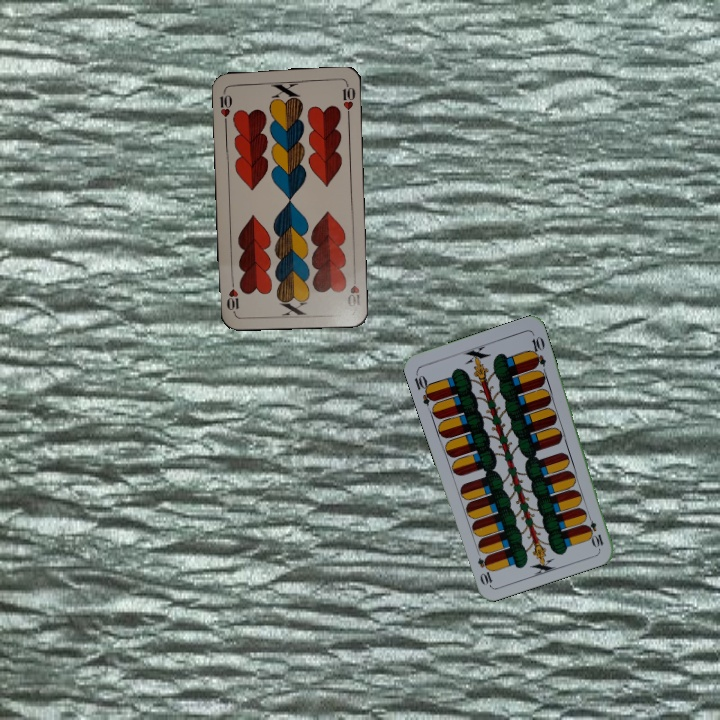E10: (410, 368, 437, 408), (582, 510, 606, 550)
H10: (215, 86, 235, 126), (343, 270, 363, 309)
